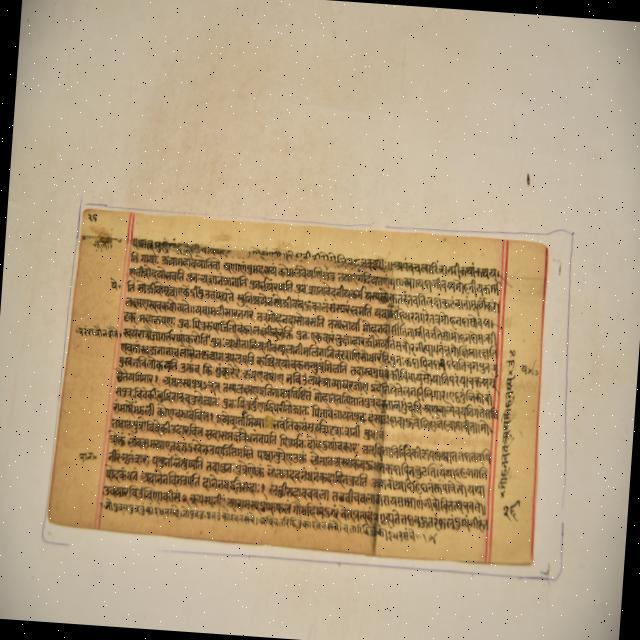text_paragraph: (44, 205, 547, 564)
